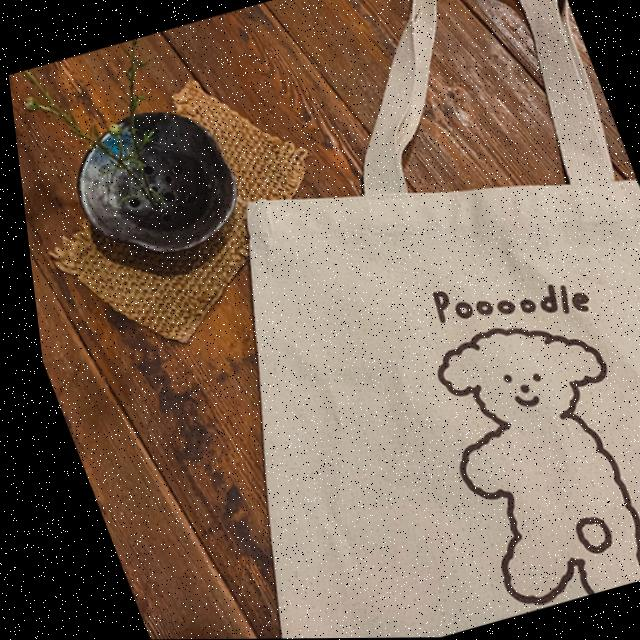ecobag: (21, 0, 640, 640)
